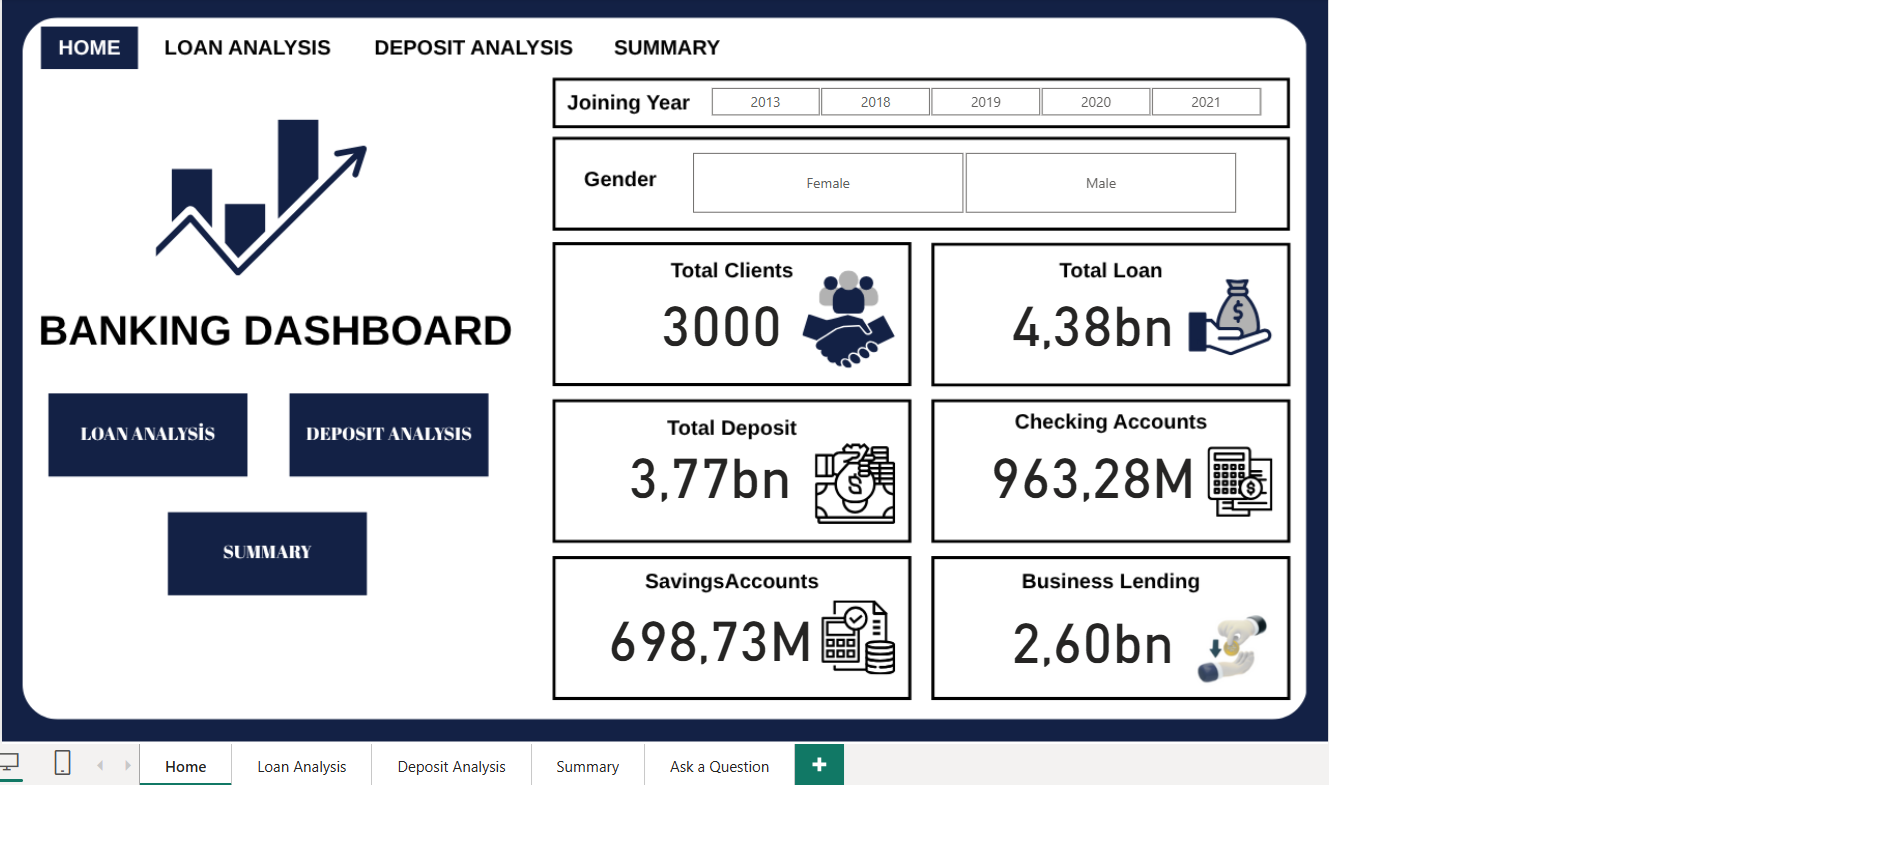

The page's visual inventory and layout, read from the dashboard file:
{"tool":"powerbi","page":{"name":"Home","canvas":[1280,720],"ordinal":0},"visuals":[{"type":"card","fields":{"Values":["CountNonNull(Query1.Name)"]},"box":[588.5,274.7,211.7,70.6],"z":0},{"type":"slicer","fields":{"Values":["Query1.GenderId"]},"box":[640.1,142.4,574.6,71.8],"z":1000},{"type":"card","fields":{"Values":["banking_case customer.Total Loan"]},"box":[936.3,274.7,233.1,69.3],"z":2000},{"type":"card","fields":{"Values":["banking_case customer.Total Deposit"]},"box":[567,422.1,233.1,69.3],"z":3000},{"type":"slicer","fields":{"Values":["banking_case customer.Year of Joining"]},"box":[659,79.4,579.6,40.3],"z":4000},{"type":"card","fields":{"Values":["Sum(banking_case customer.Saving Accounts)"]},"box":[567,579.6,233.1,69.3],"z":5000},{"type":"card","fields":{"Values":["Sum(banking_case customer.Checking Accounts)"]},"box":[936.3,422.1,233.1,69.3],"z":6000},{"type":"card","fields":{"Values":["Sum(banking_case customer.Business Lending)"]},"box":[936.3,580.9,233.1,69.3],"z":7000},{"type":"actionButton","box":[56.7,395.7,158.8,51.7],"z":8000},{"type":"actionButton","box":[287.3,395.7,172.6,46.6],"z":9000},{"type":"actionButton","box":[185.2,514.1,142.4,41.6],"z":10000},{"type":"actionButton","box":[147.4,29,180.2,40.3],"z":11000},{"type":"actionButton","box":[345.3,29,209.2,40.3],"z":12000},{"type":"actionButton","box":[567,29,163.8,40.3],"z":13000}]}

Visuals, with their boxes on the page's 1280x720 design canvas (x1, y1, x2, y2). These are canvas units, not pixel positions in the 1883x855 screenshot, which may show the page scaled, cropped or inside an application window:
card - CountNonNull(Query1.Name): [x1=588, y1=275, x2=800, y2=345]
slicer - Query1.GenderId: [x1=640, y1=142, x2=1215, y2=214]
card - banking_case customer.Total Loan: [x1=936, y1=275, x2=1169, y2=344]
card - banking_case customer.Total Deposit: [x1=567, y1=422, x2=800, y2=491]
slicer - banking_case customer.Year of Joining: [x1=659, y1=79, x2=1239, y2=120]
card - Sum(banking_case customer.Saving Accounts): [x1=567, y1=580, x2=800, y2=649]
card - Sum(banking_case customer.Checking Accounts): [x1=936, y1=422, x2=1169, y2=491]
card - Sum(banking_case customer.Business Lending): [x1=936, y1=581, x2=1169, y2=650]
actionButton: [x1=57, y1=396, x2=216, y2=447]
actionButton: [x1=287, y1=396, x2=460, y2=442]
actionButton: [x1=185, y1=514, x2=328, y2=556]
actionButton: [x1=147, y1=29, x2=328, y2=69]
actionButton: [x1=345, y1=29, x2=554, y2=69]
actionButton: [x1=567, y1=29, x2=731, y2=69]
